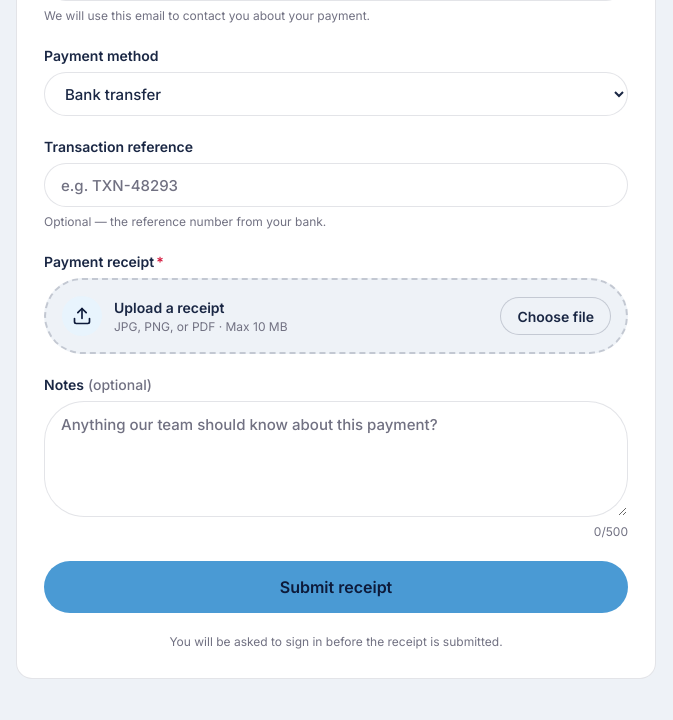
<ManualPaymentPage> › shows inline validation errors when required fields are empty
(page scrolled)
Click the button "Submit receipt" at coordinates (336, 587), box top-left (44, 561), bottom-right (628, 613)
(page scrolled)
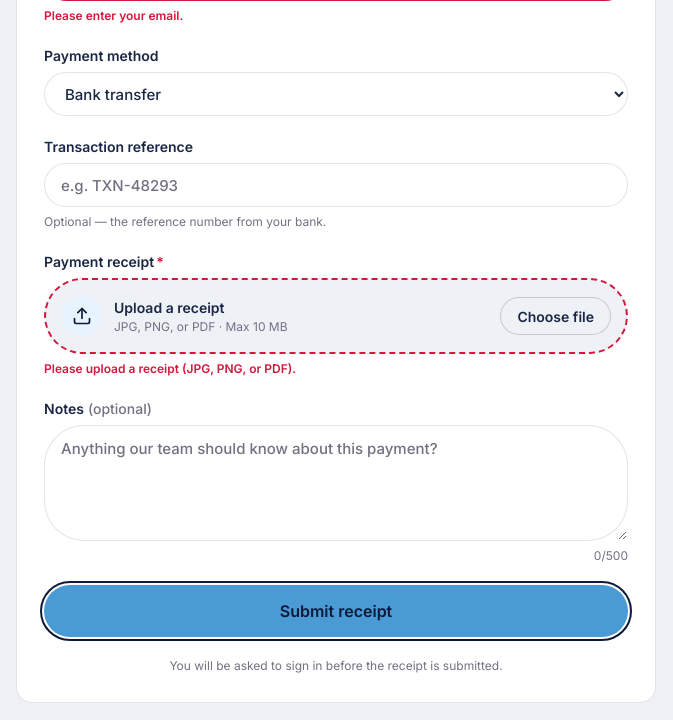
Check: the text "Please enter your email." is shown, box top-left (44, 8), bottom-right (183, 23)
Check: the text "Please upload a receipt (JPG, PNG, or PDF)." is shown, box top-left (44, 361), bottom-right (296, 376)
